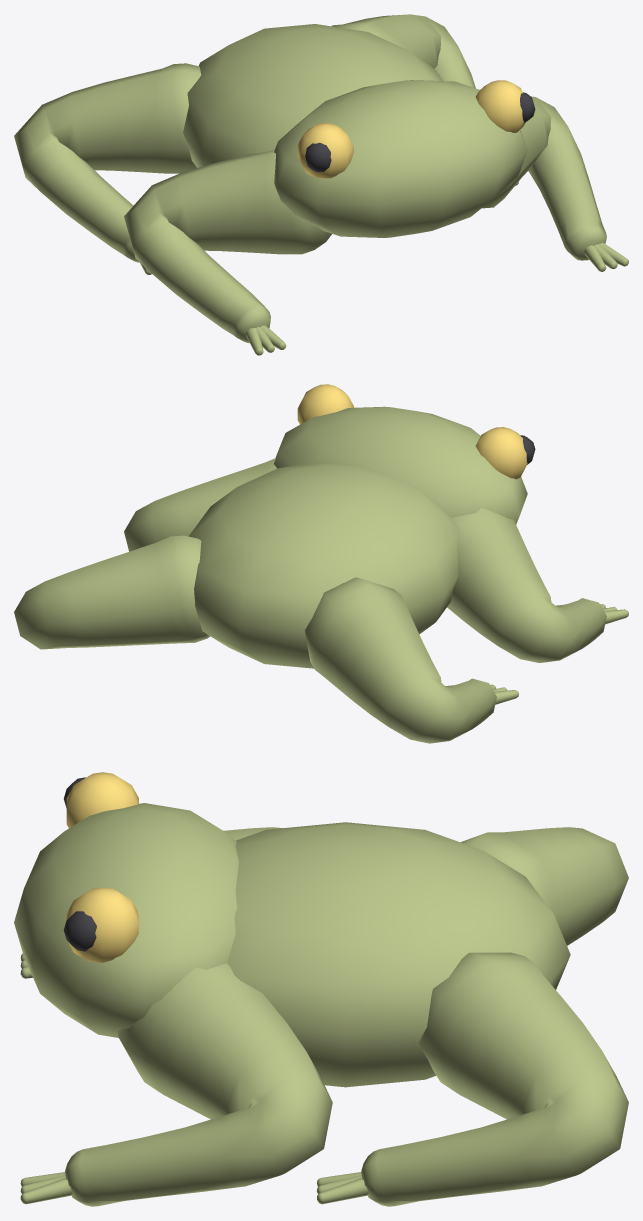
Rendered from reptiles-amphibians-and-minibeasts-american-bullfrog-1ca64428__22446.glb.
3 views of the same model, one above another, from view 1: azimuth 30°, elevation 25°; view 2: azimuth 150°, elevation 25°; view 3: azimuth 270°, elevation 25° (orthographic). The views are drawn at different scales.
Visible parts, largest first — view 1: american-bullfrog; view 2: american-bullfrog; view 3: american-bullfrog.
Part boxes in pixels (box(x1,y1,x2,y2)): american-bullfrog: box(14, 14, 628, 355); american-bullfrog: box(14, 384, 628, 743); american-bullfrog: box(14, 772, 628, 1206).
Bounding box in the file's own units: 0.1998 × 0.0838 × 0.18.
